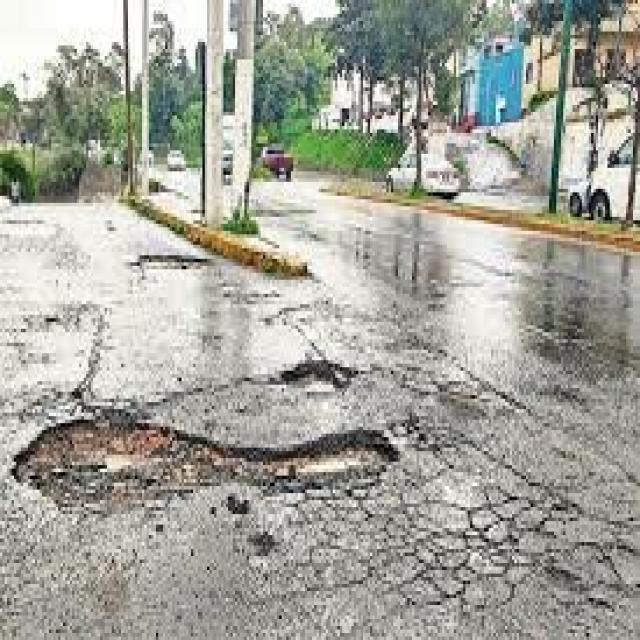pothole: (14, 318, 468, 616)
